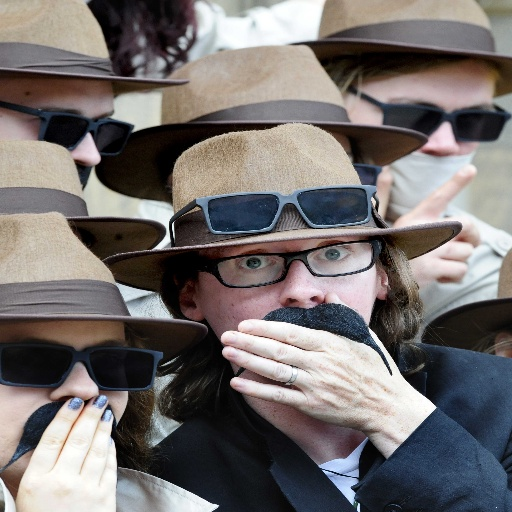hand: (192, 313, 438, 448), (14, 395, 116, 511), (390, 165, 481, 283)
